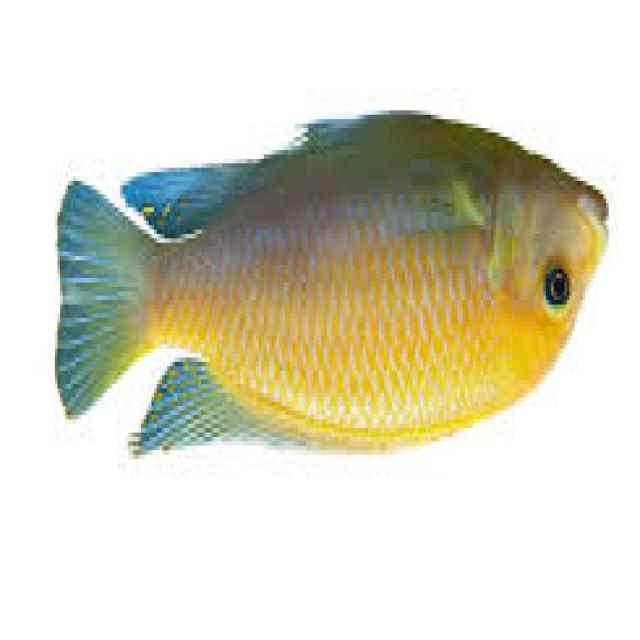fish: (2, 1, 640, 636)
